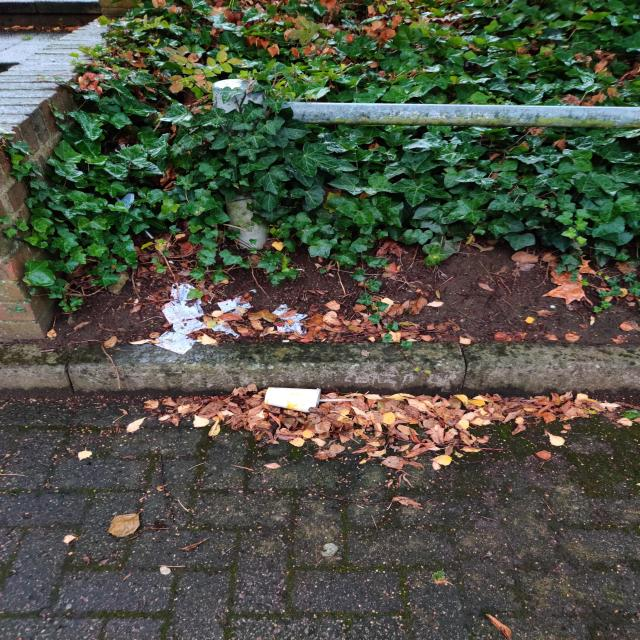litter: (260, 382, 323, 418)
